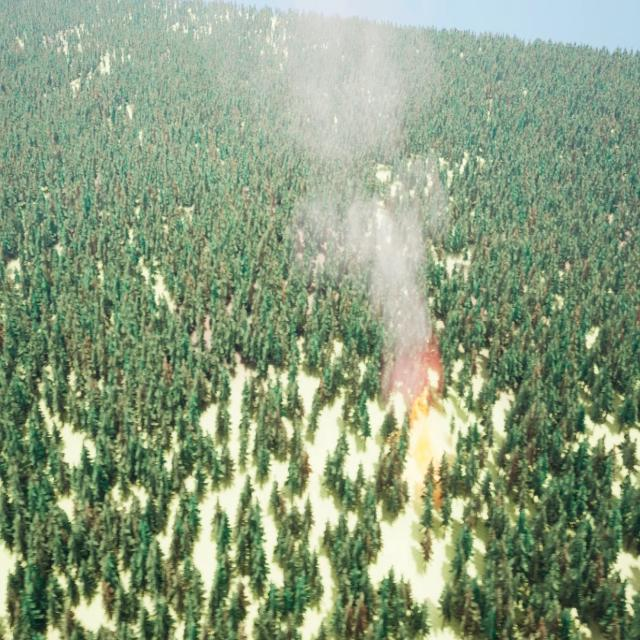fire: (410, 368, 445, 491)
smoke: (217, 0, 450, 401)
